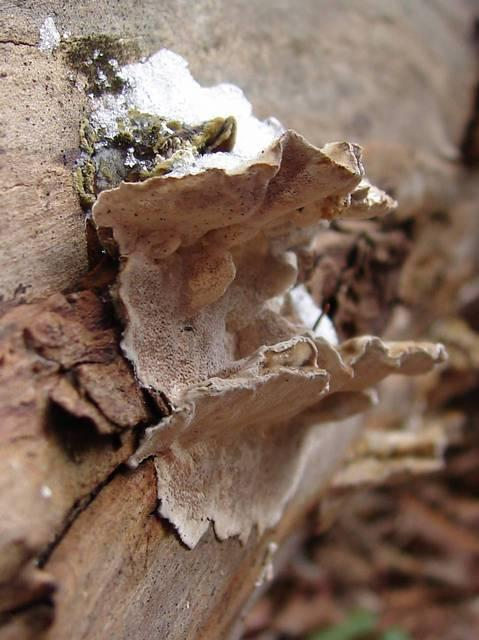Non-edible Mushroom: (92, 44, 438, 539)
